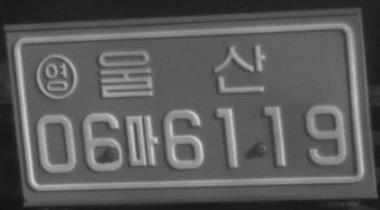0: (36, 113, 76, 173)
1: (256, 105, 296, 168), (210, 107, 246, 169)
6: (162, 108, 204, 170), (82, 111, 123, 172)
9: (304, 103, 346, 166)
마: (124, 114, 159, 166)
영: (35, 53, 78, 100)
울산_D: (98, 43, 266, 99)
